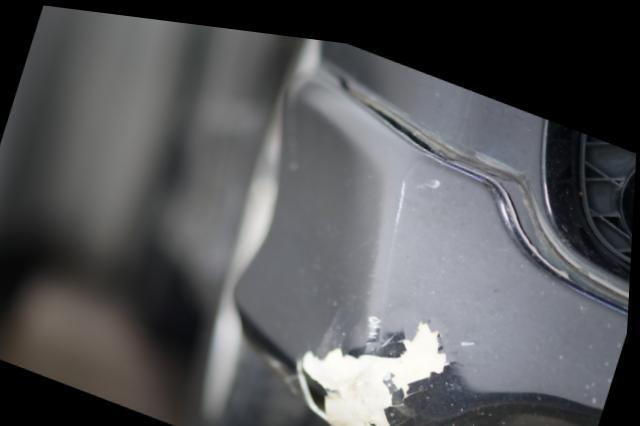scratch: (296, 300, 452, 426)
